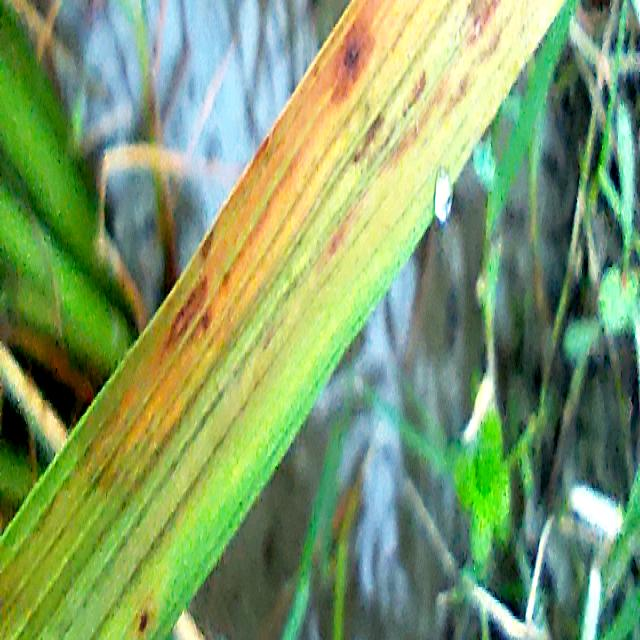NBS: (167, 275, 208, 344), (354, 112, 385, 165), (135, 605, 157, 640)
